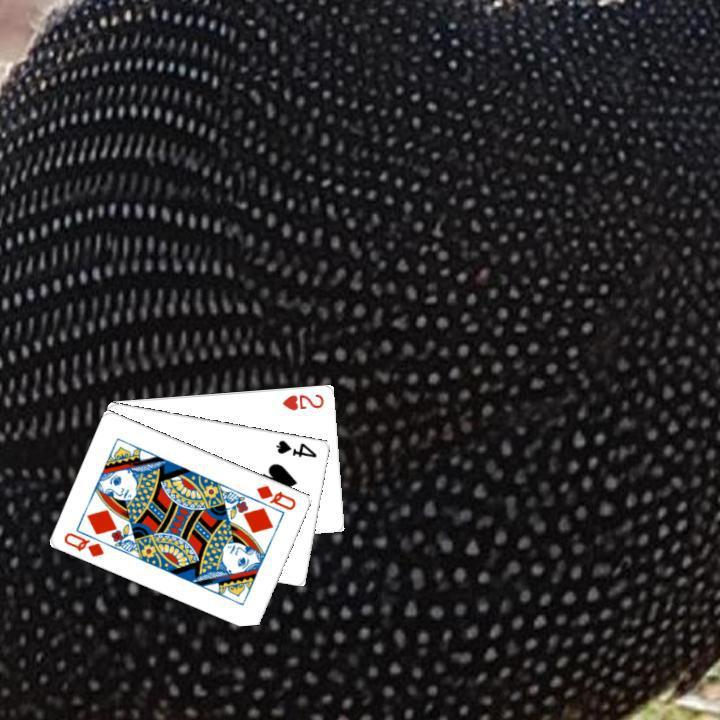2: (278, 389, 326, 412)
4: (272, 435, 319, 459)
Q: (252, 480, 298, 512), (60, 528, 107, 559)
